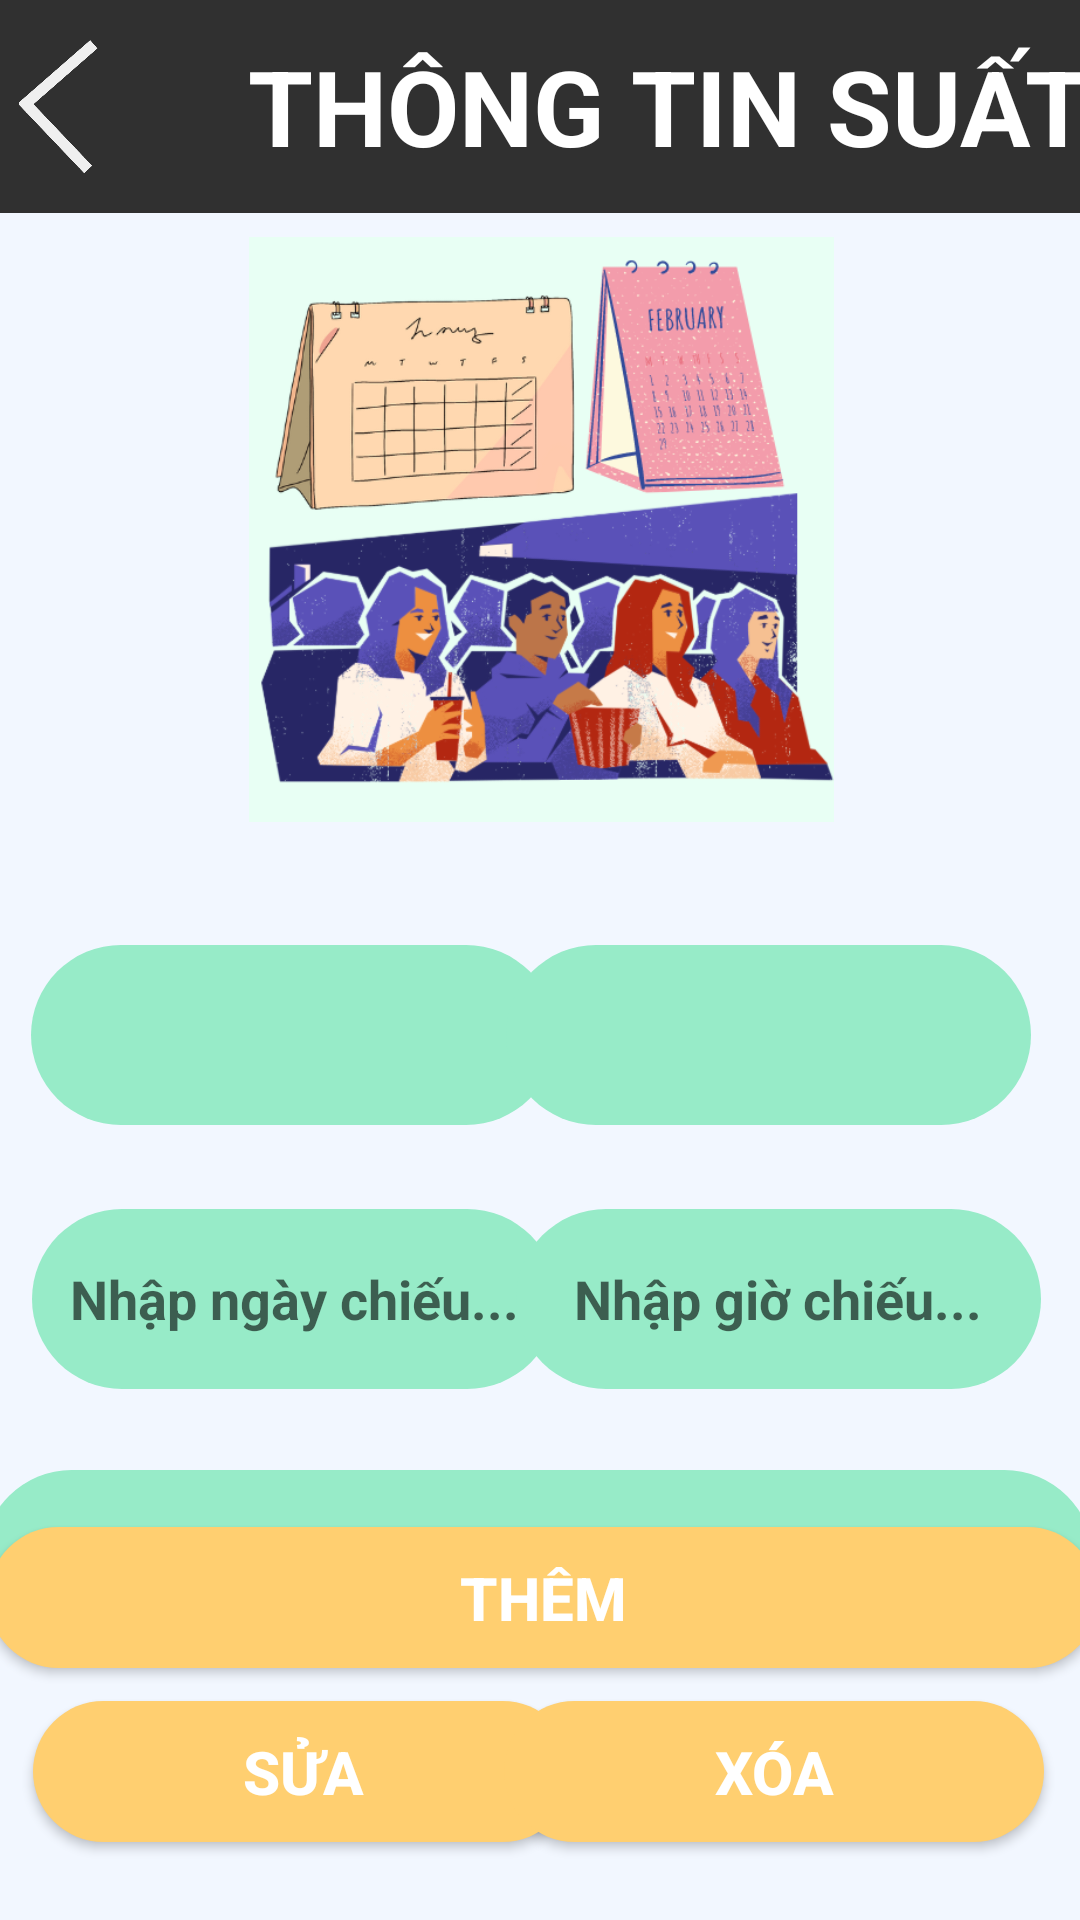

Screen size 1080×1920. Icon name, then its box in pixels as box(x1, y1, x2, y2):
turnback: box(19, 40, 97, 173)
